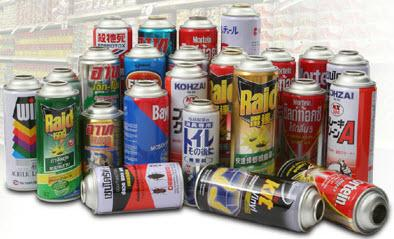Aerosol_cans: (33, 79, 84, 205), (229, 53, 280, 179), (325, 68, 375, 185), (79, 161, 185, 215)
